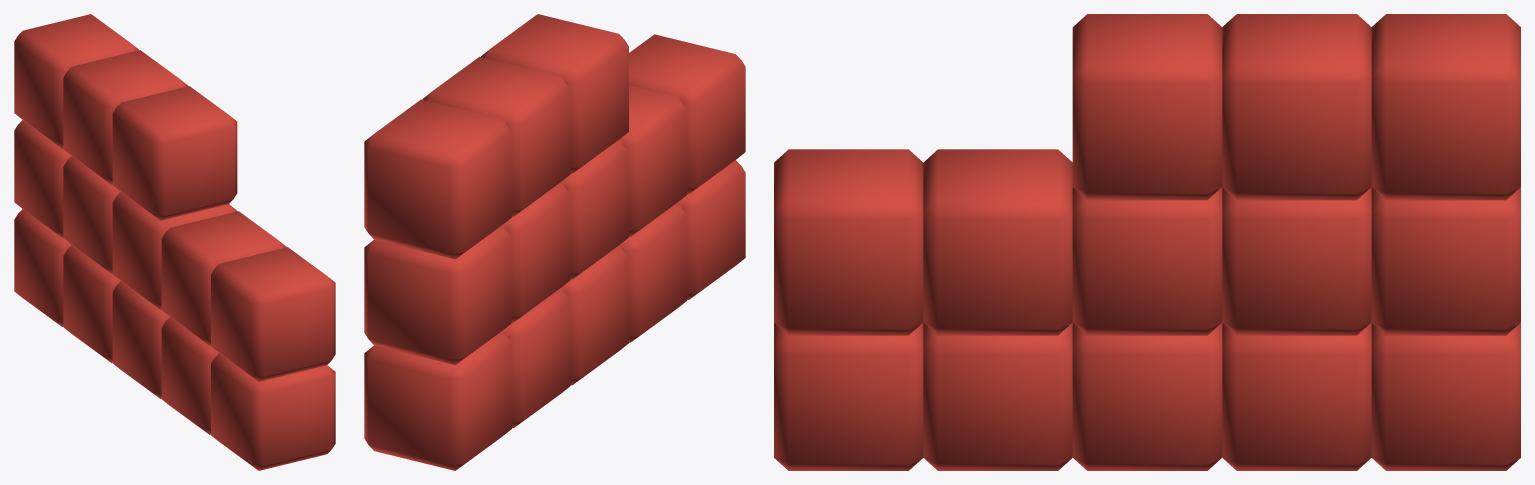
Rendered from obstacle-008.fbx.
The picture shows the model from 3 angles, left to right: view 1: azimuth 30°, elevation 25°; view 2: azimuth 150°, elevation 25°; view 3: azimuth 270°, elevation 25°; orthographic projection. The views are drawn at different scales.
Visible parts, largest first — view 1: Cube.001; view 2: Cube.001; view 3: Cube.001.
Part boxes in pixels (bbox=[...]): Cube.001: bbox=[14, 14, 335, 470]; Cube.001: bbox=[364, 14, 745, 470]; Cube.001: bbox=[774, 14, 1520, 470].
Bounding box in the file's own units: 200 × 600 × 1000.
